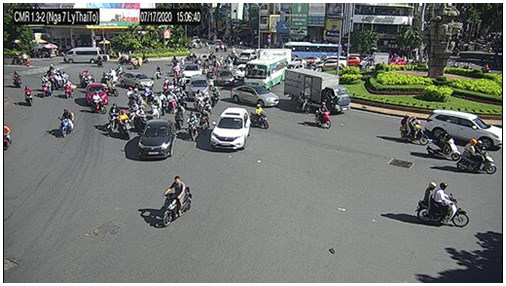xe_buyt: (245, 55, 285, 89), (284, 41, 342, 63), (455, 50, 506, 73)
xe_hoi: (426, 110, 502, 150), (211, 106, 249, 151), (139, 119, 175, 160), (230, 84, 280, 107), (120, 71, 154, 90), (188, 73, 210, 97), (310, 58, 344, 73), (215, 68, 234, 86)
xe_khach: (63, 47, 102, 63)
xe_may: (417, 182, 469, 227), (161, 176, 192, 228), (454, 138, 496, 174), (427, 130, 461, 162), (400, 115, 429, 147), (58, 108, 75, 139), (315, 100, 331, 131), (126, 86, 147, 109), (118, 108, 132, 142), (251, 104, 269, 130), (88, 91, 107, 114), (133, 106, 148, 134), (186, 110, 199, 142), (108, 102, 119, 136), (173, 102, 185, 131), (62, 78, 77, 101), (166, 91, 180, 114), (154, 91, 166, 117), (41, 78, 54, 99), (15, 51, 31, 66), (106, 78, 118, 97), (150, 100, 161, 119), (194, 90, 204, 110), (24, 85, 33, 107), (79, 70, 90, 87), (210, 86, 219, 106), (152, 64, 164, 79), (12, 70, 22, 87), (130, 56, 143, 69), (184, 50, 197, 62), (172, 63, 183, 77), (46, 63, 55, 78), (479, 62, 490, 73), (230, 44, 237, 57)
xe_tai: (285, 68, 350, 114), (241, 50, 292, 63)
